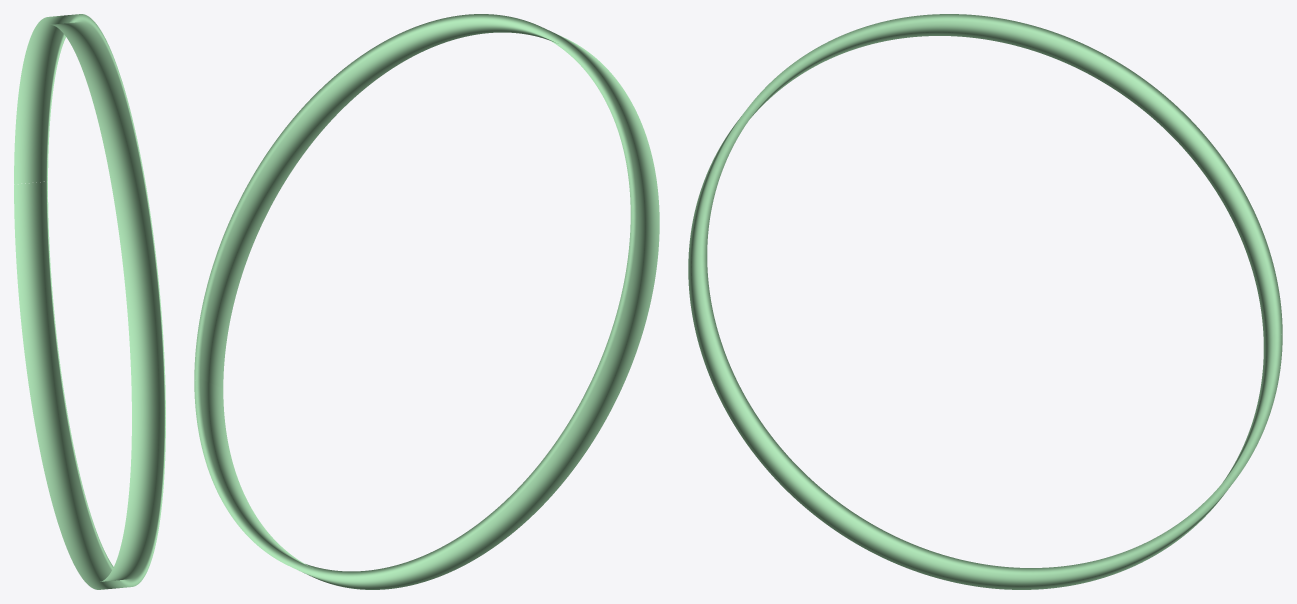
The model's file is coil_coil_20_tube.gltf.
The picture shows the model from 3 angles, left to right: view 1: azimuth 30°, elevation 25°; view 2: azimuth 150°, elevation 25°; view 3: azimuth 270°, elevation 25°; orthographic projection. The views are drawn at different scales.
Visible parts, largest first — view 1: Renderer Node; view 2: Renderer Node; view 3: Renderer Node.
Part boxes in pixels (x1,y1,x2,y2): Renderer Node: (14, 14, 165, 589); Renderer Node: (194, 14, 659, 589); Renderer Node: (688, 14, 1282, 589).
Size of the model in its own units: 0.2213 by 0.6084 by 0.5894.
